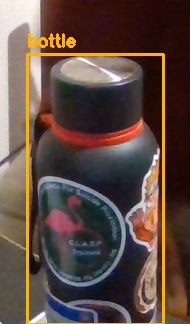bottle: (27, 54, 163, 324)
